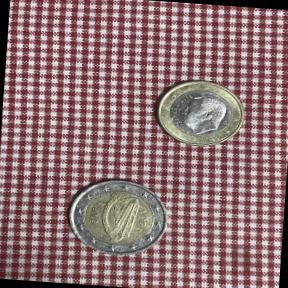1 Euro-B: (150, 76, 248, 154)
2 Euro-B: (62, 172, 172, 262)
